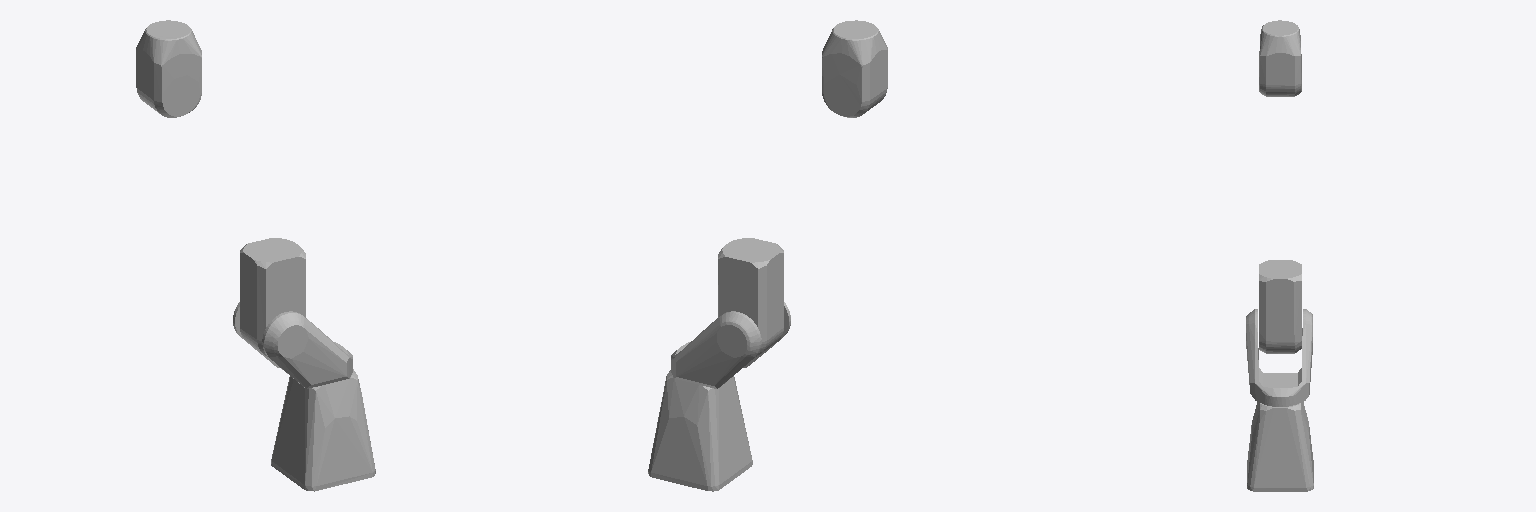
URDF robot description (rasmt):
<?xml version="1.0" encoding="utf-8"?>
<robot name="rasmt">
  <link
    name="Base_Link">
    <inertial>
      <origin
        xyz="-0.000297002857922682 0.0964721185617698 -0.000361033370053684"
        rpy="0 0 0" />
      <mass
        value="1.88031044620482" />
      <inertia
        ixx="0.00503302470272442"
        ixy="0.000343817346410954"
        ixz="-4.74990755448368E-06"
        iyy="0.00337962410057753"
        iyz="-2.3099255620051E-05"
        izz="0.00405858207282473" />
    </inertial>
    <visual>
      <origin
        xyz="0 0 0"
        rpy="0 0 3.1416" />
      <geometry>
        <mesh
          filename="package://robot_arm/meshes/Base_Link.stl" />
      </geometry>
      <material
        name="">
        <color
          rgba="0.752941176470588 0.752941176470588 0.752941176470588 1" />
      </material>
    </visual>
    <collision>
      <origin
        xyz="0 0 0"
        rpy="0 0 0" />
      <geometry>
        <mesh
          filename="package://robot_arm/meshes/Base_Link.stl" />
      </geometry>
    </collision>
  </link>
  <link
    name="Fork_1">
    <inertial>
      <origin
        xyz="0.0472051139085306 0.00208890925682996 0.0557265410642575"
        rpy="0 0 0" />
      <mass
        value="1.12472202892859" />
      <inertia
        ixx="0.00367804533572758"
        ixy="1.04277925521833E-05"
        ixz="-0.00149971410403071"
        iyy="0.00415208849477534"
        iyz="-5.67049464176624E-06"
        izz="0.0041832353455649" />
    </inertial>
    <visual>
      <origin
        xyz="0 0 0"
        rpy="0 0 0" />
      <geometry>
        <mesh
          filename="package://robot_arm/meshes/Fork_1.stl" />
      </geometry>
      <material
        name="">
        <color
          rgba="0.752941176470588 0.752941176470588 0.752941176470588 1" />
      </material>
    </visual>
    <collision>
      <origin
        xyz="0 0 0"
        rpy="0 0 0" />
      <geometry>
        <mesh
          filename="package://viewer/meshes/collision/Fork_1.stl" />
      </geometry>
    </collision>
  </link>
  <joint
    name="rot_1"
    type="revolute">
    <origin
      xyz="0 0 0.201360610569537"
      rpy="0 0 -3.1416" />
    <parent
      link="Base_Link" />
    <child
      link="Fork_1" />
    <axis
      xyz="0 0 1" />
    <limit
      lower="-3.1416"
      upper="3.1416"
      effort="0"
      velocity="0" />
  </joint>
  <link
    name="Link_1">
    <inertial>
      <origin
        xyz="0.00186712264682627 -0.000412152188777604 0.0516389446895805"
        rpy="0 0 0" />
      <mass
        value="1.58688811563124" />
      <inertia
        ixx="0.00315699373090845"
        ixy="2.84713820858537E-05"
        ixz="7.01601261191721E-05"
        iyy="0.00343729241263707"
        iyz="-0.000101485203138902"
        izz="0.00125534890134052" />
    </inertial>
    <visual>
      <origin
        xyz="0 0 0"
        rpy="0 0 0" />
      <geometry>
        <mesh
          filename="package://robot_arm/meshes/Link_1.stl" />
      </geometry>
      <material
        name="">
        <color
          rgba="0.752941176470588 0.752941176470588 0.752941176470588 1" />
      </material>
    </visual>
    <collision>
      <origin
        xyz="0 0 0"
        rpy="0 0 0" />
      <geometry>
        <mesh
          filename="package://viewer/meshes/collision/Link_1.stl" />
      </geometry>
    </collision>
  </link>
  <joint
    name="rot_2"
    type="revolute">
    <origin
      xyz="0.11 0 0.115"
      rpy="0 0 0" />
    <parent
      link="Fork_1" />
    <child
      link="Link_1" />
    <axis
      xyz="0 1 0" />
    <limit
      lower="3.1415"
      upper="-1.5708"
      effort="0"
      velocity="0" />
  </joint>
  <link
    name="Fork_2">
    <inertial>
      <origin
        xyz="0.0472051139085305 0.00208890925682995 0.0557265410642578"
        rpy="0 0 0" />
      <mass
        value="1.12472202892859" />
      <inertia
        ixx="0.00367804533572757"
        ixy="1.04277925521844E-05"
        ixz="-0.00149971410403071"
        iyy="0.00415208849477533"
        iyz="-5.67049464176452E-06"
        izz="0.00418323534556488" />
    </inertial>
    <visual>
      <origin
        xyz="0 0 0"
        rpy="0 0 0" />
      <geometry>
        <mesh
          filename="package://robot_arm/meshes/Fork_2.stl" />
      </geometry>
      <material
        name="">
        <color
          rgba="0.752941176470588 0.752941176470588 0.752941176470588 1" />
      </material>
    </visual>
    <collision>
      <origin
        xyz="0 0 0"
        rpy="0 0 0" />
      <geometry>
        <mesh
          filename="package://viewer/meshes/collision/Fork_2.stl" />
      </geometry>
    </collision>
  </link>
  <joint
    name="rot_3"
    type="revolute">
    <origin
      xyz="0.001 0 0.156"
      rpy="0 0 0" />
    <parent
      link="Link_1" />
    <child
      link="Fork_2" />
    <axis
      xyz="0 0 1" />
    <limit
      lower="-3.1416"
      upper="3.1416"
      effort="0"
      velocity="0" />
  </joint>
  <link
    name="Link_2">
    <inertial>
      <origin
        xyz="-0.000432876513268232 0.000412152066707638 -0.0516389448183734"
        rpy="0 0 0" />
      <mass
        value="1.58688811045173" />
      <inertia
        ixx="0.003156993699861"
        ixy="-2.84713874261319E-05"
        ixz="-7.01601002852382E-05"
        iyy="0.00343729240547398"
        iyz="-0.000101485187086937"
        izz="0.00125534888404072" />
    </inertial>
    <visual>
      <origin
        xyz="0 0 0"
        rpy="0 0 0" />
      <geometry>
        <mesh
          filename="package://robot_arm/meshes/Link_2.stl" />
      </geometry>
      <material
        name="">
        <color
          rgba="0.752941176470588 0.752941176470588 0.752941176470588 1" />
      </material>
    </visual>
    <collision>
      <origin
        xyz="0 0 0"
        rpy="0 0 0" />
      <geometry>
        <mesh
          filename="package://viewer/meshes/collision/Link_2.stl" />
      </geometry>
    </collision>
  </link>
  <joint
    name="rot_4"
    type="revolute">
    <origin
      xyz="0.11 0 0.115"
      rpy="0 0 0" />
    <parent
      link="Fork_2" />
    <child
      link="Link_2" />
    <axis
      xyz="0 1 0" />
    <limit
      lower="3.1416"
      upper="-1.5708"
      effort="0"
      velocity="0" />
  </joint>
  <link
    name="Fork_3">
    <inertial>
      <origin
        xyz="0.0472051139085305 0.00208890925682995 0.0557265410642577"
        rpy="0 0 0" />
      <mass
        value="1.12472202892859" />
      <inertia
        ixx="0.00367804533572757"
        ixy="1.04277925521856E-05"
        ixz="-0.00149971410403071"
        iyy="0.00415208849477532"
        iyz="-5.67049464176534E-06"
        izz="0.00418323534556488" />
    </inertial>
    <visual>
      <origin
        xyz="0 0 0"
        rpy="0 0 0" />
      <geometry>
        <mesh
          filename="package://robot_arm/meshes/Fork_3.stl" />
      </geometry>
      <material
        name="">
        <color
          rgba="0.752941176470588 0.752941176470588 0.752941176470588 1" />
      </material>
    </visual>
    <collision>
      <origin
        xyz="0 0 0"
        rpy="0 0 0" />
      <geometry>
        <mesh
          filename="package://viewer/meshes/collision/Fork_3.stl" />
      </geometry>
    </collision>
  </link>
  <joint
    name="rot_5"
    type="revolute">
    <origin
      xyz="-0.000 0 0.156"
      rpy="0 0 0" />
    <parent
      link="Link_2" />
    <child
      link="Fork_3" />
    <axis
      xyz="0 0 1" />
    <limit
      lower="-3.1416"
      upper="3.1416"
      effort="0"
      velocity="0" />
  </joint>
  <link
    name="Dock_Link">
    <inertial>
      <origin
        xyz="-9.7531539777207E-06 -0.000888494418875867 0.0342332199538358"
        rpy="0 0 0" />
      <mass
        value="1.26942368542312" />
      <inertia
        ixx="0.00147695259043549"
        ixy="-2.66894744420299E-05"
        ixz="-4.40871314563273E-05"
        iyy="0.00135500487881796"
        iyz="-3.19001462979333E-05"
        izz="0.00087582892706912" />
    </inertial>
    <visual>
      <origin
        xyz="0 0 0"
        rpy="0 0 1.5708" />
      <geometry>
        <mesh
          filename="package://robot_arm/meshes/Dock_Link.stl" />
      </geometry>
      <material
        name="">
        <color
          rgba="0.752941176470588 0.752941176470588 0.752941176470588 1" />
      </material>
    </visual>
    <collision>
      <origin
        xyz="0 0 0"
        rpy="0 0 0" />
      <geometry>
        <mesh
          filename="package://viewer/meshes/collision/Dock_Link.stl" />
      </geometry>
    </collision>
  </link>
  <joint
    name="rot_6"
    type="revolute">
    <origin
      xyz="0.11 0 0.115"
      rpy="0 0 0" />
    <parent
      link="Fork_3" />
    <child
      link="Dock_Link" />
    <axis
      xyz="0 1 0" />
    <limit
      lower="3.1416"
      upper="-1.5708"
      effort="0"
      velocity="0" />
  </joint>
<link name="Tool_Base"/>
  <joint
    name="tool"
    type="fixed">
    <origin
      xyz="0 0 0.115"
      rpy="0 0 0" />
    <parent
      link="Dock_Link" />
    <child
      link="Tool_Base" />
    <axis
      xyz="0 1 0" />
  </joint>
</robot>

--- Render facts (derived) ---
Views: 3 orthographic renders of the robot side by side, from view 1: azimuth 30°, elevation 25°; view 2: azimuth 150°, elevation 25°; view 3: azimuth 270°, elevation 25°.
Robot: rasmt — 8 links, 7 joints (6 revolute, 1 fixed); root link Base_Link; default pose: all joints at 0.
Visible links, largest first — view 1: Base_Link, Link_1, Dock_Link, Fork_1; view 2: Base_Link, Link_1, Dock_Link, Fork_1; view 3: Base_Link, Link_1, Fork_1, Dock_Link.
Link boxes in pixels (x1,y1,x2,y2): Base_Link: (271, 369, 375, 491); Link_1: (240, 238, 305, 356); Dock_Link: (136, 20, 201, 117); Fork_1: (233, 302, 352, 388); Base_Link: (648, 370, 752, 491); Link_1: (718, 238, 783, 355); Dock_Link: (822, 20, 887, 117); Fork_1: (671, 302, 790, 388); Base_Link: (1247, 402, 1313, 491); Link_1: (1259, 260, 1301, 353); Fork_1: (1246, 309, 1312, 406); Dock_Link: (1259, 20, 1301, 96).
Bounding box of the posed robot: 0.4569 × 0.1539 × 0.9743 m (x, y, z).
Meshes: 7 distinct files referenced, 4 mesh visuals loaded (4 binary STL); not drawn: 3 (reference not matched to a file when rendering).
